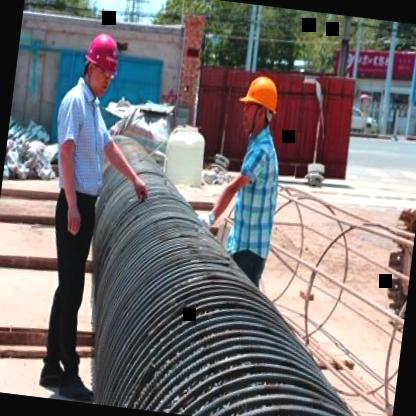helmet: (236, 68, 282, 140), (78, 27, 123, 96)
